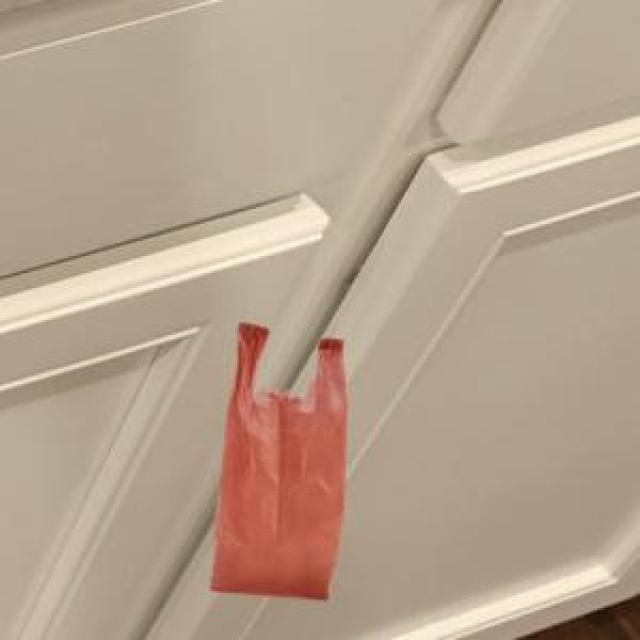waste: (211, 322, 345, 598)
